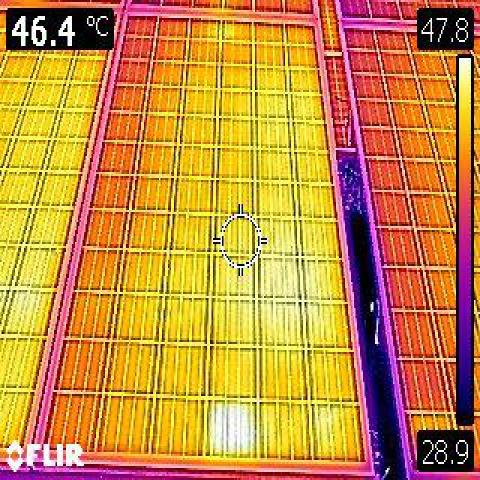fault: (206, 395, 257, 460)
